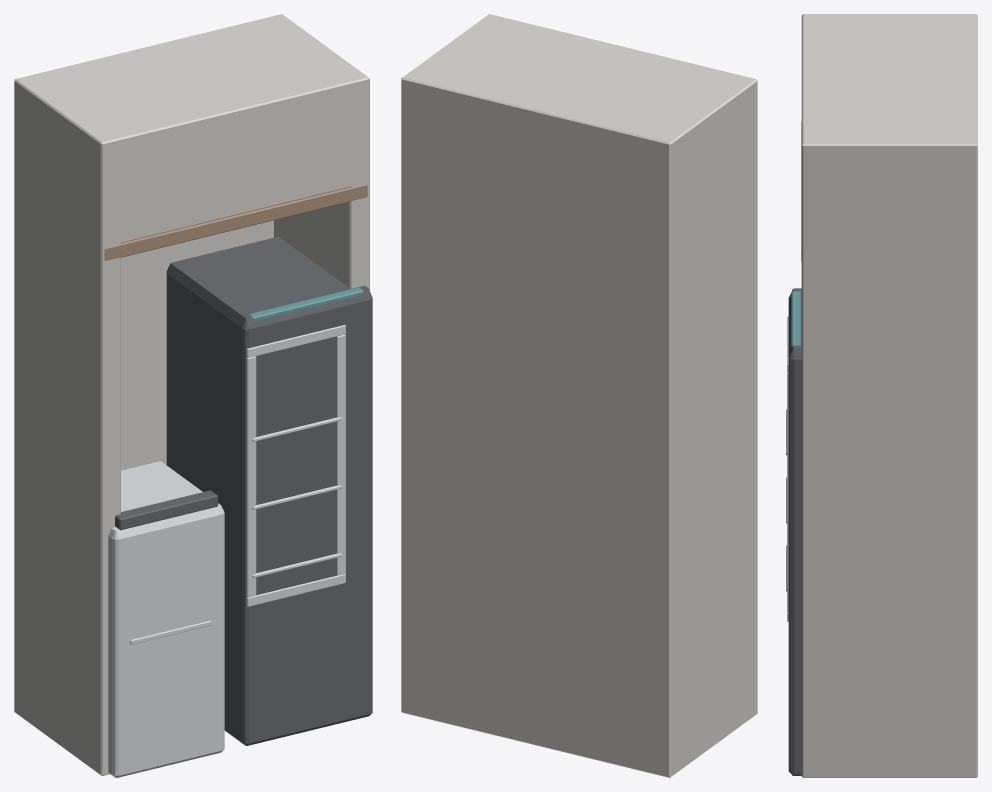
Rendered from hotel-and-resort-operations-corridor-ice-vending-alcov-2a840180__25826.glb.
3 views of the same model, side by side, from view 1: azimuth 30°, elevation 25°; view 2: azimuth 150°, elevation 25°; view 3: azimuth 270°, elevation 25° (orthographic).
Visible parts, largest first — view 1: corridor-ice-vending-alcove; view 2: corridor-ice-vending-alcove; view 3: corridor-ice-vending-alcove.
Boxes of the visible parts, x1,y1,x2,y2 form: corridor-ice-vending-alcove: (14,14,372,777); corridor-ice-vending-alcove: (401,14,757,777); corridor-ice-vending-alcove: (786,14,977,777).
Size of the model in its own units: 1.2 by 2.7 by 0.7399.
